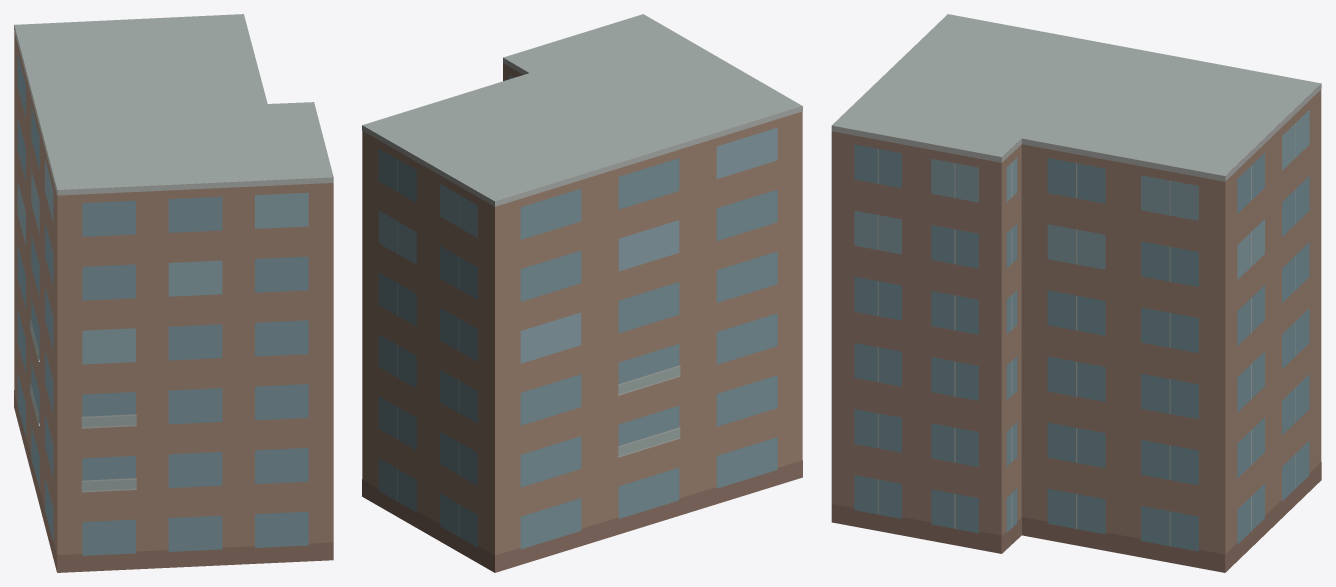
Rendered from survey-upis-33043445.glb.
3 renders of one model, left to right at view 1: azimuth 30°, elevation 25°; view 2: azimuth 150°, elevation 25°; view 3: azimuth 270°, elevation 25°, orthographic. The views are drawn at different scales.
Visible parts, largest first — view 1: survey-upis-33043445.tmp; view 2: survey-upis-33043445.tmp; view 3: survey-upis-33043445.tmp.
Part boxes in pixels (x1,y1,x2,y2): survey-upis-33043445.tmp: [14, 14, 333, 572]; survey-upis-33043445.tmp: [362, 14, 802, 572]; survey-upis-33043445.tmp: [831, 14, 1321, 572].
Size of the model in its own units: 14.9 by 17 by 19.03.
